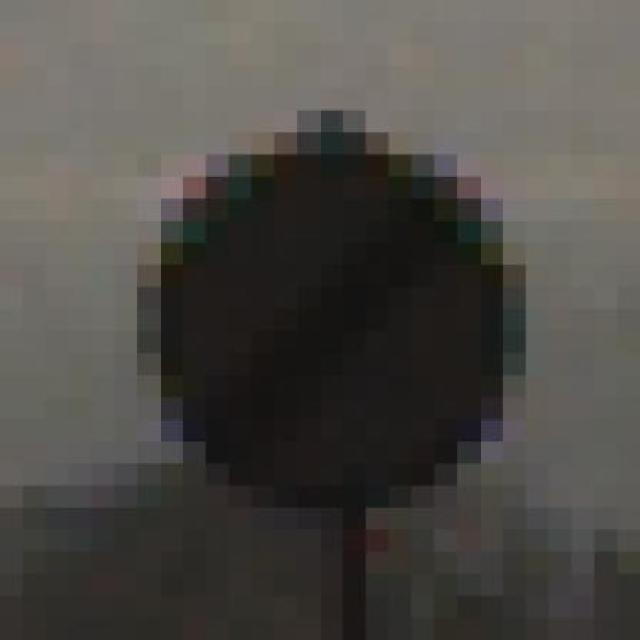End of all speed and passing limits: (137, 88, 549, 530)
